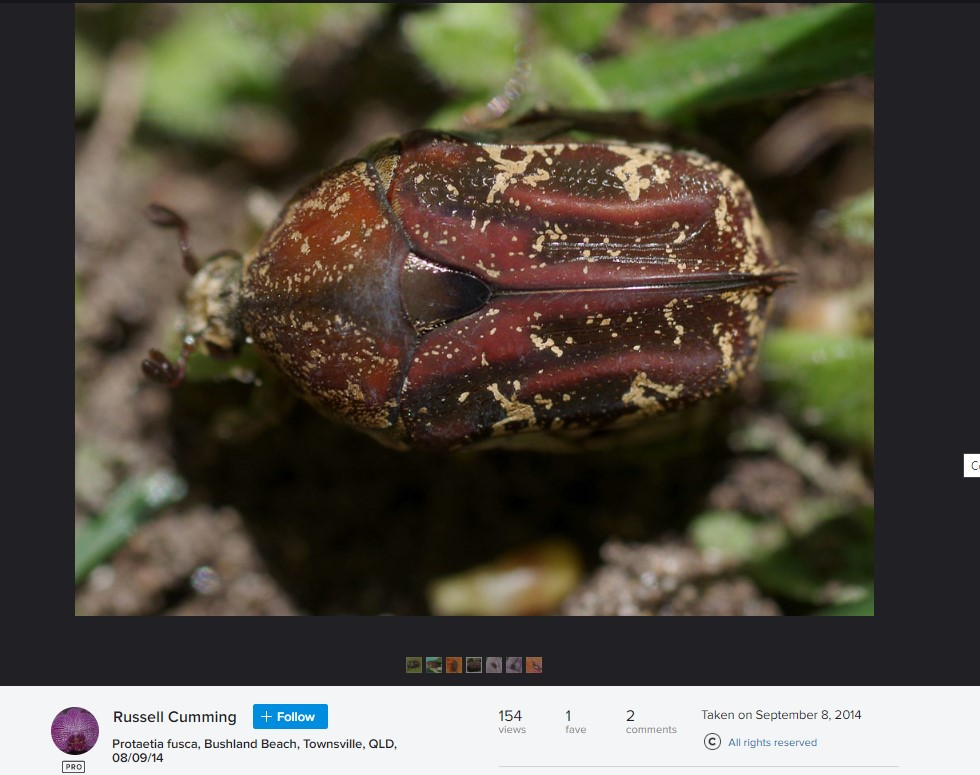Protaetia_fusca: (122, 121, 803, 466)
